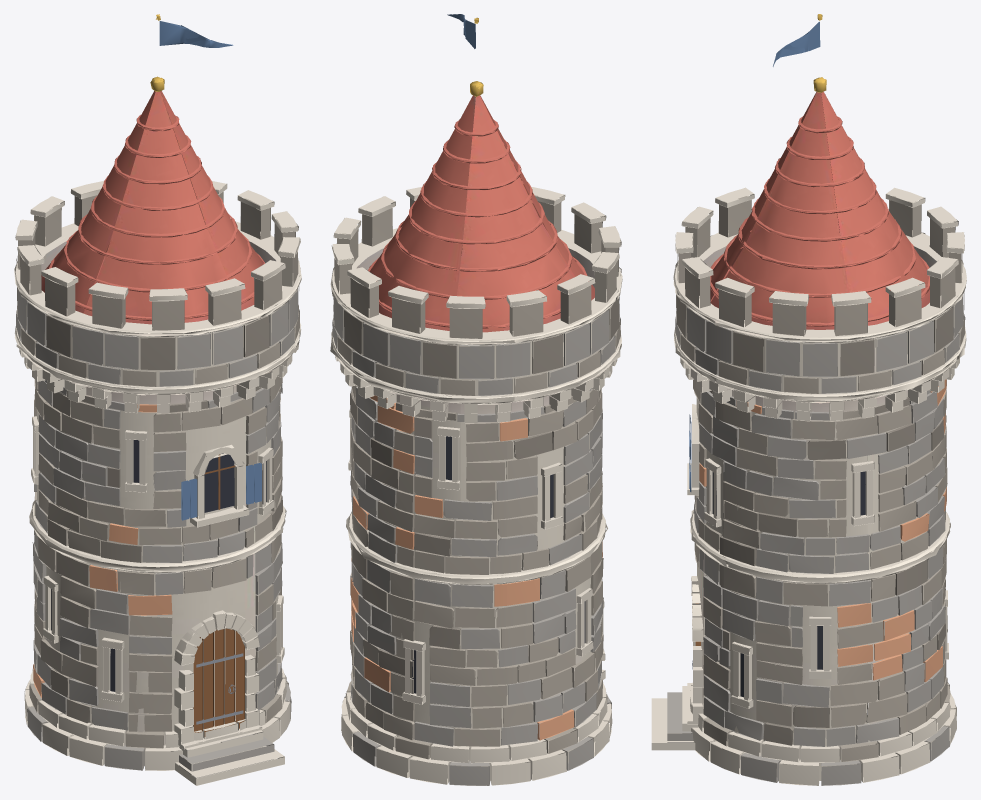
Rendered from torre_castillo.glb.
The picture shows the model from 3 angles, left to right: view 1: azimuth 30°, elevation 25°; view 2: azimuth 150°, elevation 25°; view 3: azimuth 270°, elevation 25°; orthographic projection. The views are drawn at different scales.
Visible parts, largest first — view 1: castle-tower_body; view 2: castle-tower_body; view 3: castle-tower_body.
Boxes of the visible parts, x1,y1,x2,y2 form: castle-tower_body: [14, 14, 301, 785]; castle-tower_body: [330, 14, 622, 785]; castle-tower_body: [651, 14, 966, 785].
Bounding box in the file's own units: 6.16 × 16.54 × 6.63.
13 materials, 1 textured.
